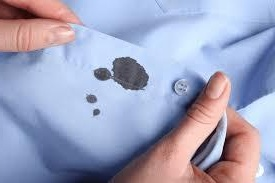wine: (94, 57, 154, 89), (83, 88, 106, 104), (88, 106, 105, 122)
